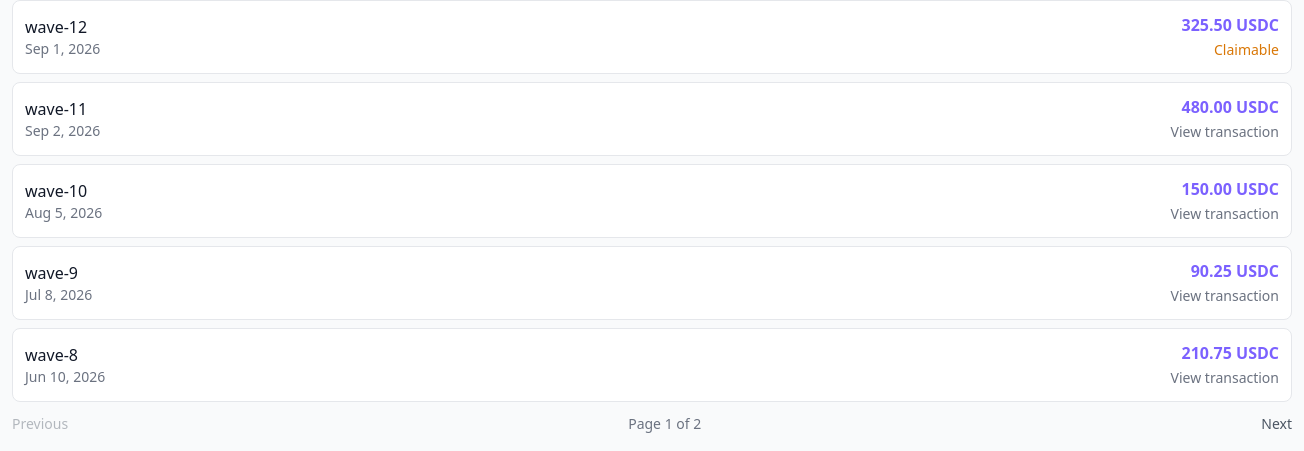
Test: RewardHistoryList › paginates distributions and navigates between pages
The width and height of the screenshot is (1304, 451).
Check: the text "wave-12" is shown, box [25, 16, 87, 38]
Check: the text "wave-8" is shown, box [25, 344, 78, 366]
Click the button "Next" at (1277, 424), box [1261, 414, 1292, 434]
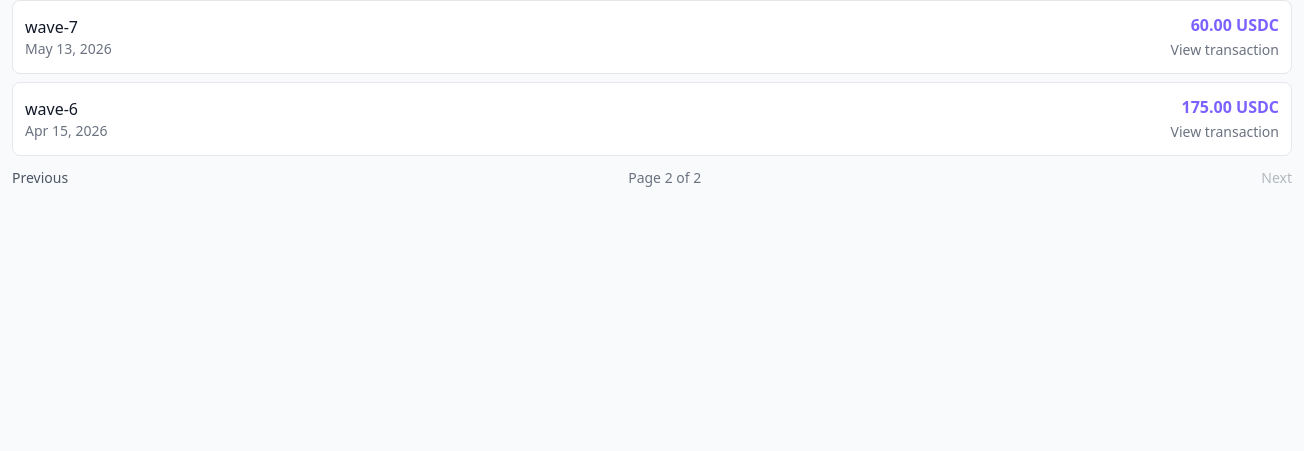
Check: the text "wave-7" is shown, box [25, 16, 78, 38]
Check: the text "wave-6" is shown, box [25, 98, 78, 120]
Check: the text "wave-12" is gone
